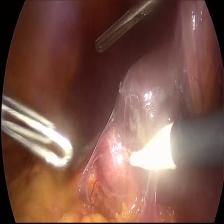Grasper: (0, 92, 77, 179), (93, 0, 160, 64)
Hook: (123, 118, 185, 182)
